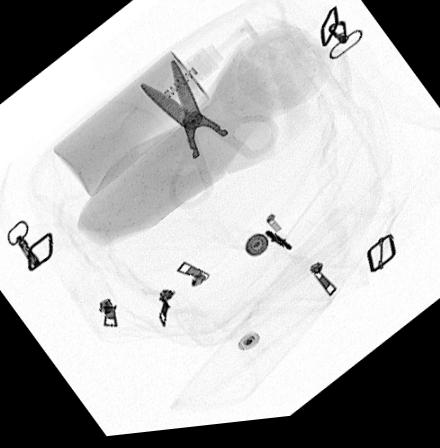Scissors: (136, 61, 278, 216)
